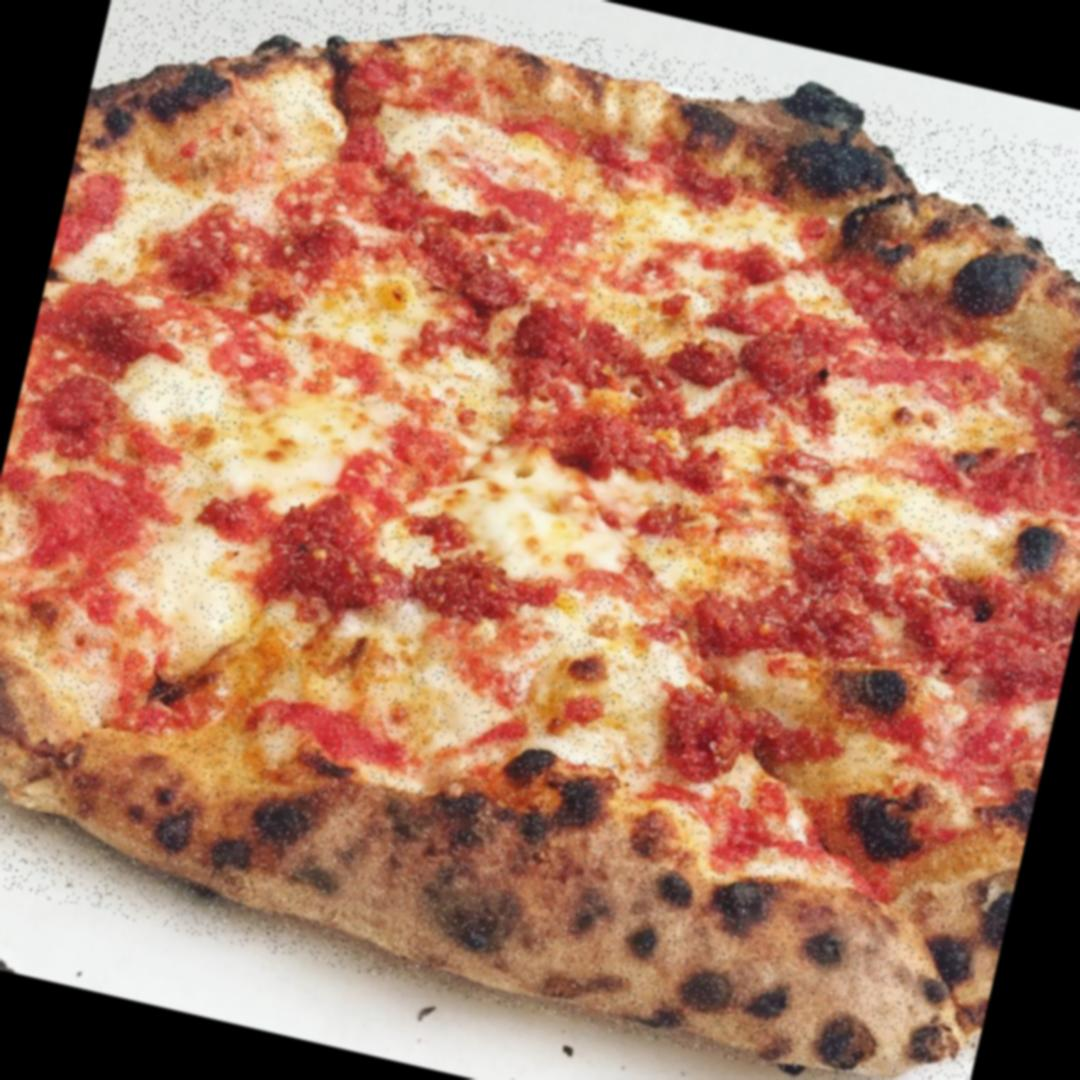Cheese: (826, 378, 1054, 578), (428, 427, 660, 595), (323, 603, 520, 758), (528, 588, 697, 758), (620, 174, 814, 306), (228, 381, 396, 530), (302, 262, 476, 397), (382, 102, 545, 222), (139, 532, 265, 668)
Pizza: (0, 0, 1080, 1080)
